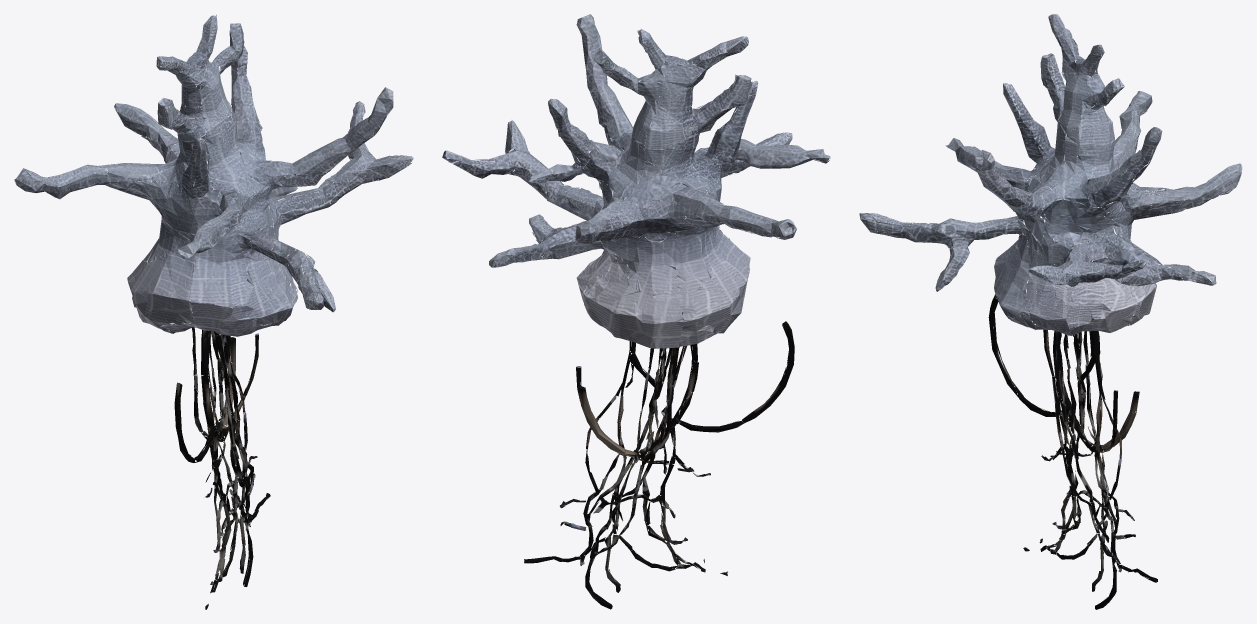
Rendered from qr_code_tree_decimated.glb.
The picture shows the model from 3 angles, left to right: view 1: azimuth 30°, elevation 25°; view 2: azimuth 150°, elevation 25°; view 3: azimuth 270°, elevation 25°; orthographic projection. The views are drawn at different scales.
Parts seen in each view (by area): view 1: tripo_node_02571725-8dd4-4dd6-94ab-b21243ef7b2a; view 2: tripo_node_02571725-8dd4-4dd6-94ab-b21243ef7b2a; view 3: tripo_node_02571725-8dd4-4dd6-94ab-b21243ef7b2a.
Part boxes in pixels (left/top/right/bottom): tripo_node_02571725-8dd4-4dd6-94ab-b21243ef7b2a: left=14, top=14, right=413, bottom=609; tripo_node_02571725-8dd4-4dd6-94ab-b21243ef7b2a: left=442, top=14, right=830, bottom=609; tripo_node_02571725-8dd4-4dd6-94ab-b21243ef7b2a: left=859, top=14, right=1242, bottom=609.
Bounding box in the file's own units: 0.6311 × 1 × 0.6305.
1 material, 1 textured.
